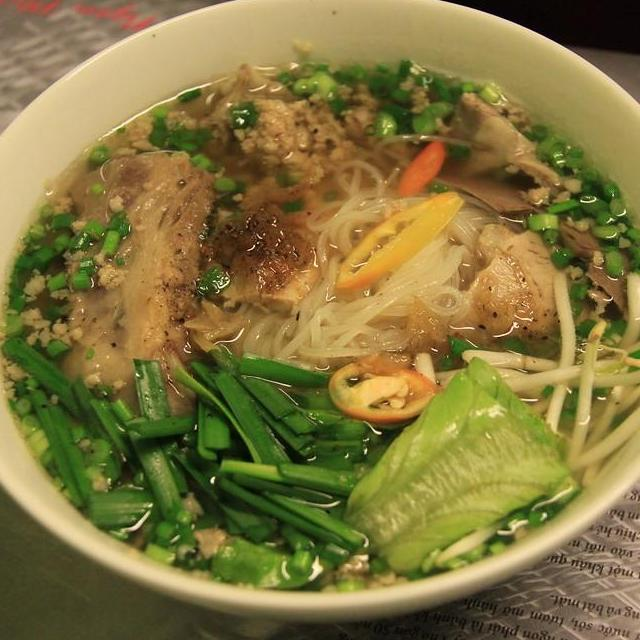banh hu tieu: (205, 148, 511, 370)
hu tieu: (0, 32, 640, 610)
thit bam: (150, 49, 461, 194), (0, 185, 142, 383)
thit heo: (50, 138, 225, 440)
